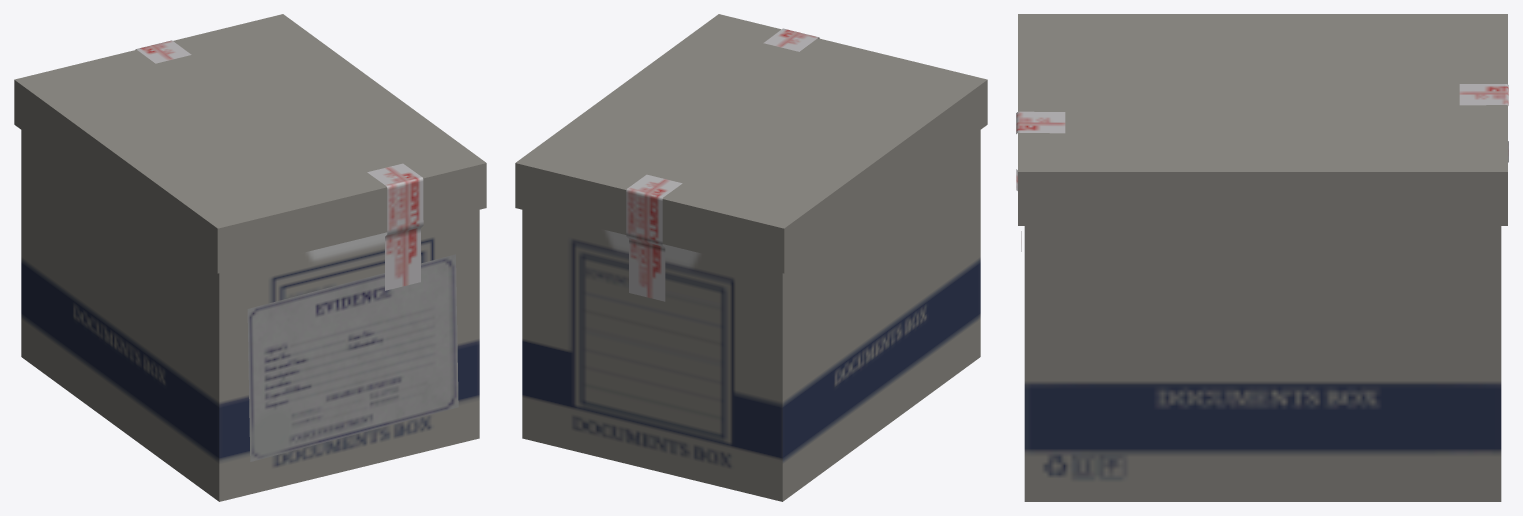
File: FBX_BoxPortableE.fbx
The picture shows the model from 3 angles, left to right: view 1: azimuth 30°, elevation 25°; view 2: azimuth 150°, elevation 25°; view 3: azimuth 270°, elevation 25°; orthographic projection. The views are drawn at different scales.
Visible parts, largest first — view 1: SM_BoxPortableE; view 2: SM_BoxPortableE; view 3: SM_BoxPortableE.
Boxes of the visible parts, left/top/right/bottom form: SM_BoxPortableE: left=14, top=14, right=486, bottom=501; SM_BoxPortableE: left=515, top=14, right=987, bottom=501; SM_BoxPortableE: left=1016, top=14, right=1508, bottom=501.
Bounding box in the file's own units: 0.2815 × 0.2777 × 0.3712.
